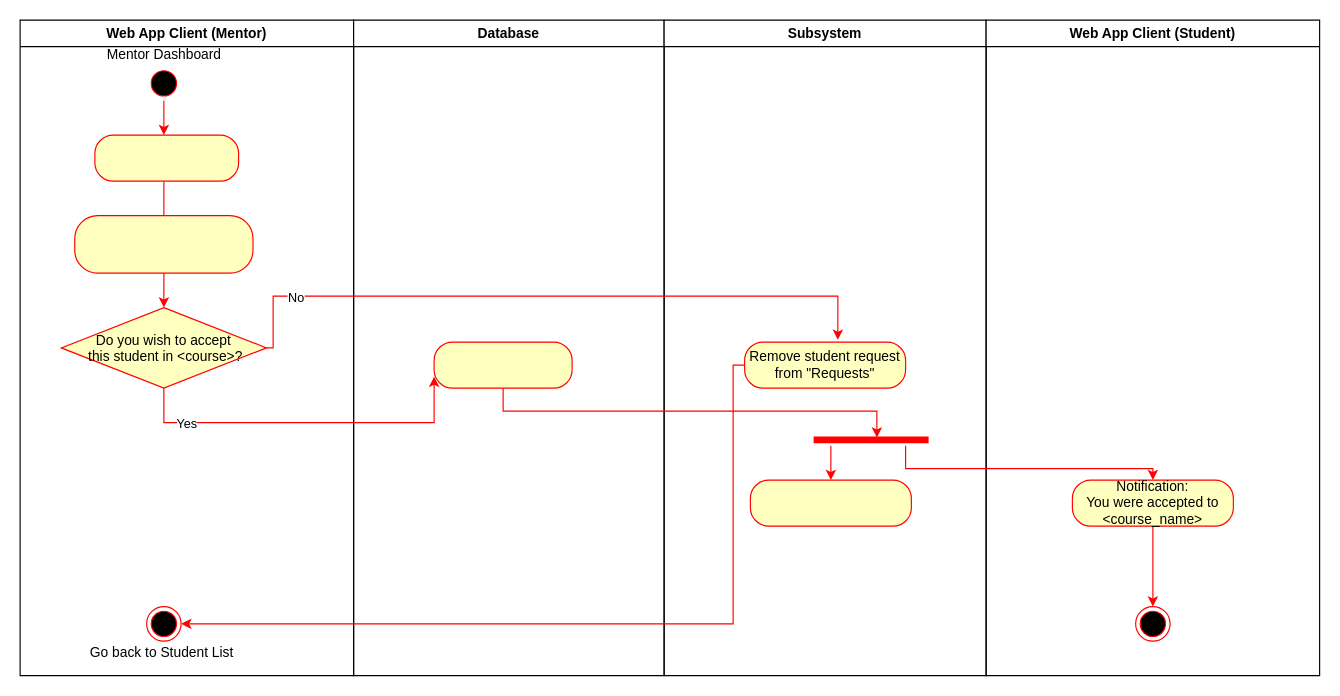
Image size: 1340x696. Some labels were removed from this diagram. The shapes that lost their labels are listed below. From the top down, each one's centre as x and y in pixels, then its label:
point (166, 157): Open "View Students" in dashboard
point (163, 243): Select a student from request list
point (502, 364): Add Student to course table in database
point (830, 502): Update Student List
